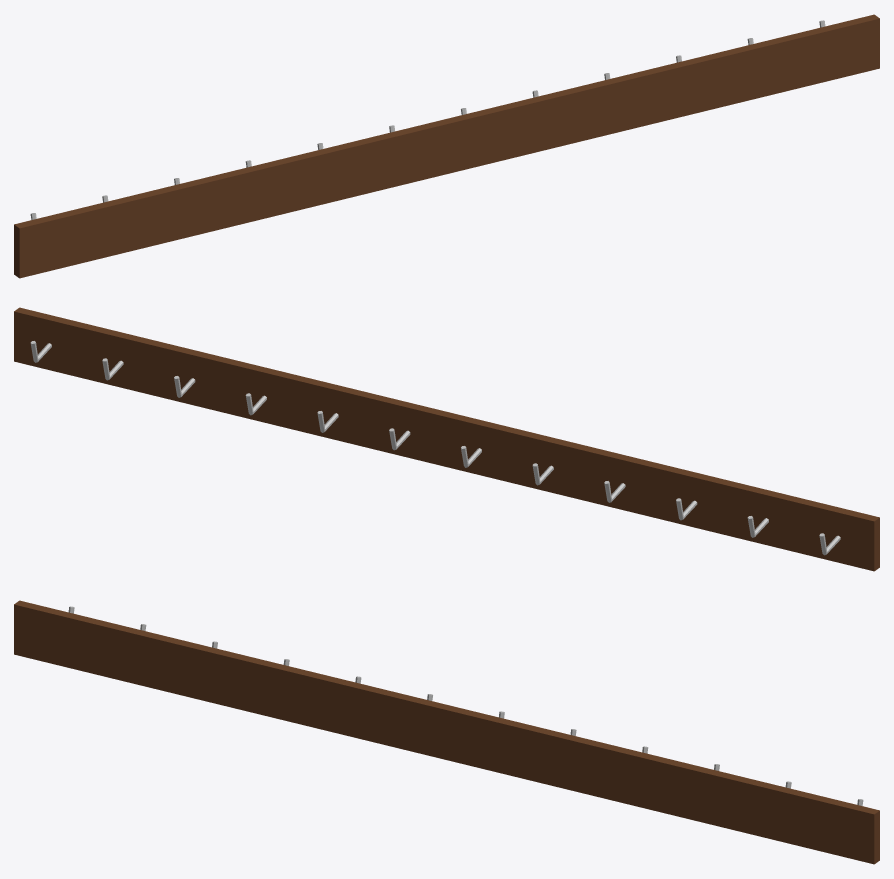
File: school.cloak.coat_rail.glb
The picture shows the model from 3 angles, top to bottom: view 1: azimuth 30°, elevation 25°; view 2: azimuth 150°, elevation 25°; view 3: azimuth 330°, elevation 25°; orthographic projection.
Parts seen in each view (by area): view 1: main__hardwood; view 2: main__hardwood, main__steel_stainless; view 3: main__hardwood.
Part boxes in pixels (bbox=[...]): main__hardwood: bbox=[14, 14, 879, 278]; main__hardwood: bbox=[14, 307, 879, 571]; main__steel_stainless: bbox=[30, 341, 840, 555]; main__hardwood: bbox=[14, 600, 879, 864].
Size of the model in its own units: 1.8 by 0.1 by 0.0849.
